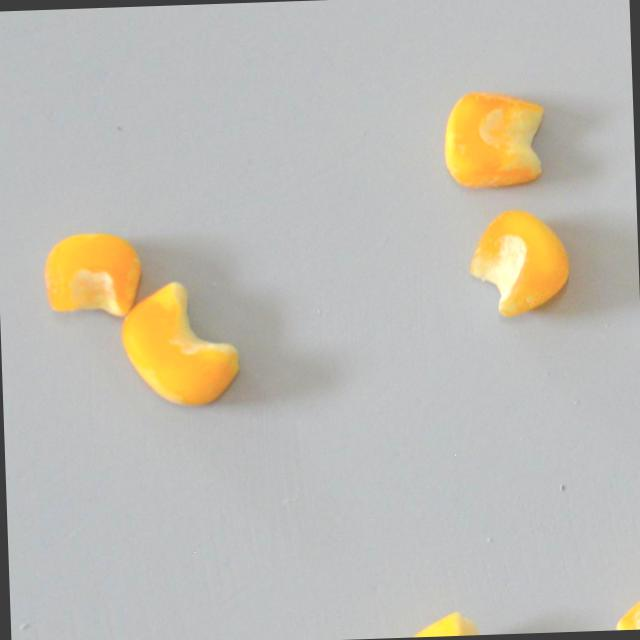dañado: (118, 275, 246, 410), (461, 205, 576, 323), (438, 87, 554, 194), (39, 230, 145, 321), (610, 572, 640, 630)
pelicula: (396, 607, 500, 638)
